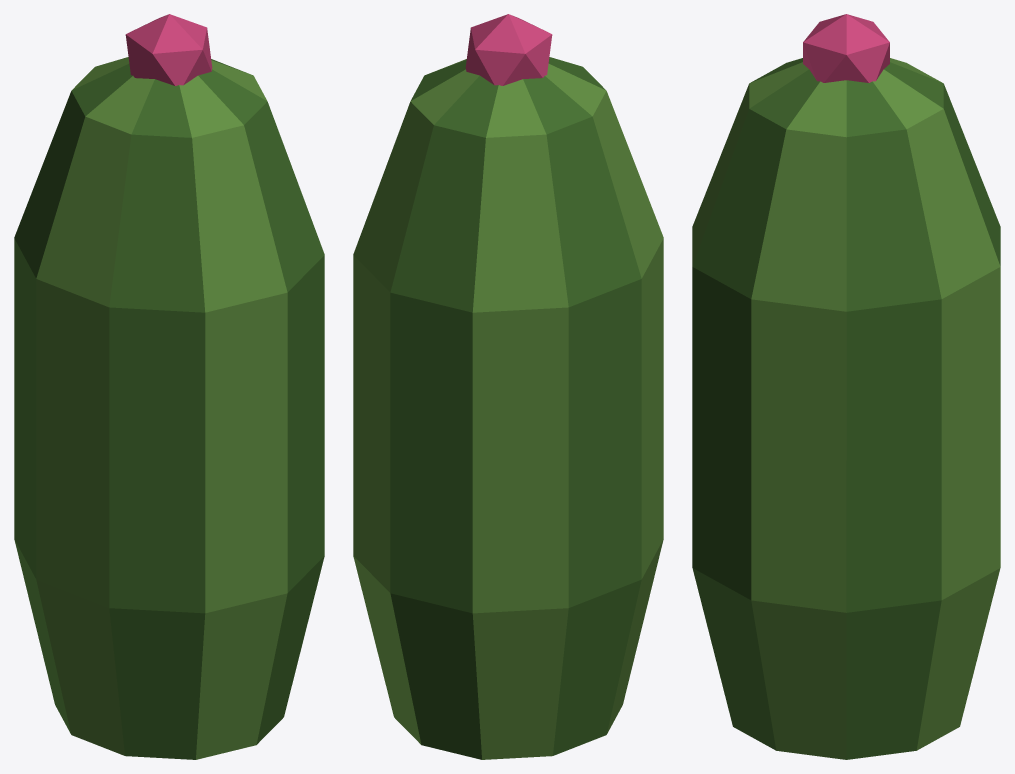
Rendered from CactusSmall.fbx.
The picture shows the model from 3 angles, left to right: view 1: azimuth 30°, elevation 25°; view 2: azimuth 150°, elevation 25°; view 3: azimuth 270°, elevation 25°; orthographic projection.
Parts seen in each view (by area): view 1: CactusSmall; view 2: CactusSmall; view 3: CactusSmall.
Boxes of the visible parts, box(x1,y1,x2,y2) form: CactusSmall: box(14, 14, 324, 759); CactusSmall: box(353, 14, 663, 759); CactusSmall: box(692, 14, 1000, 759).
Size of the model in its own units: 2 by 5 by 2.
